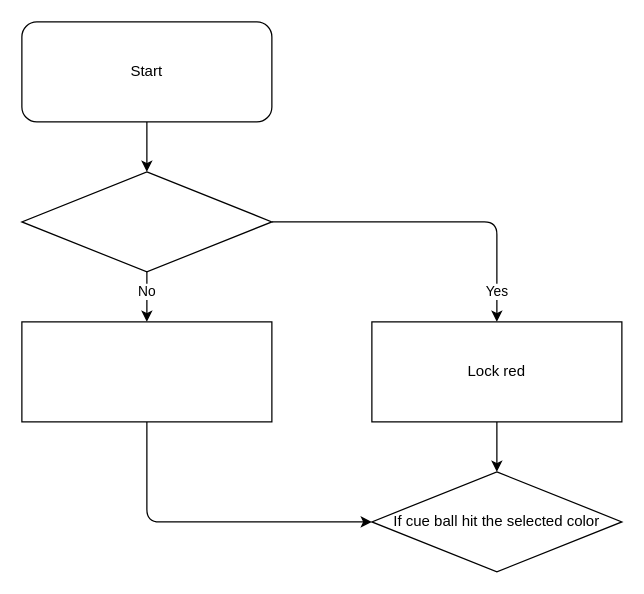
Image size: 644x594. Some labels were removed from this diagram. Each missing label, with the centre of its shape:
"Lock all color without red" belongs at point 146,371.
"Red ball has been pocketed" belongs at point 146,221.
